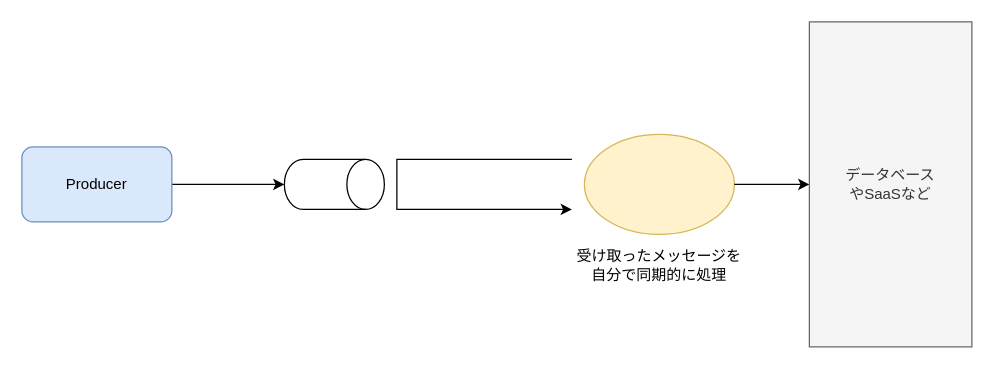
Image size: 994x369. Some labels were removed from this diagram. Here are the shapes that lost their labels. From the top down, the centre of each, then its label:
At point (333, 183): "ブローカー".
At point (658, 183): "コンシューマー ≒実タスクを処理".
